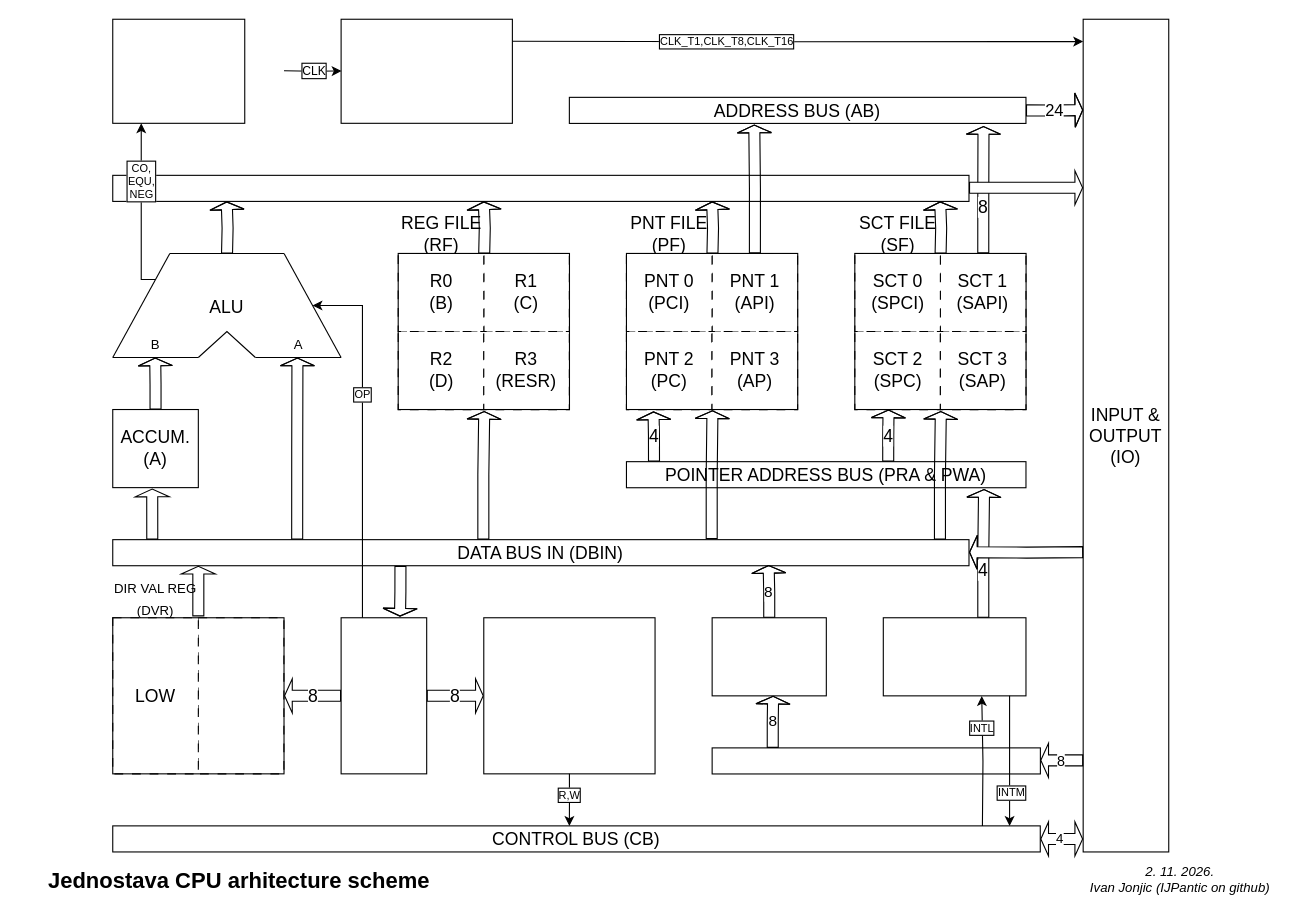
The diagram is 1293 pixels wide and 915 high, and some of its shapes have lost their labels. Each missing label, with the box of its shape:
DATA BUS OUT (DBOUT ): (112, 174, 969, 201)
HIGH: (197, 617, 284, 774)
INSTRUC. REG (IR): (340, 617, 427, 774)
INSTRUCTION DCD: (483, 617, 655, 774)
INTERRUPT BUFFER: (711, 617, 826, 696)
INTERRUPT BUS (IB): (711, 747, 1040, 774)
INTERRUPT CTRL (IC): (882, 617, 1026, 696)
JUMP CTRL (JC): (112, 18, 245, 123)
STEP CTRL (SC): (340, 18, 512, 123)
